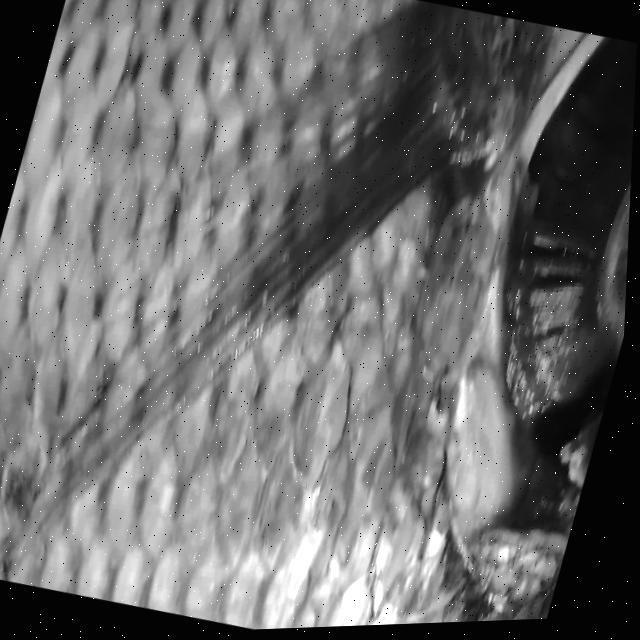Non-Fresh: (436, 33, 638, 467)
